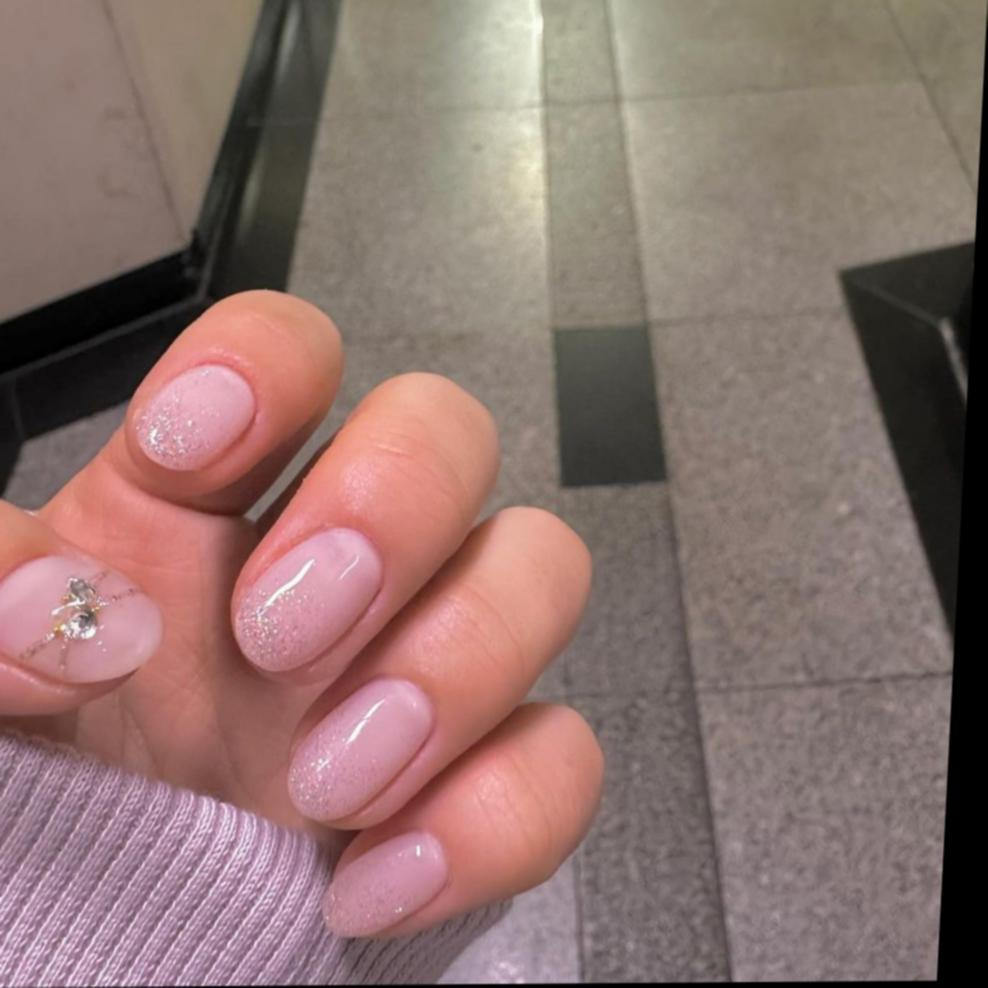nail: (228, 523, 389, 674), (285, 674, 440, 825), (0, 551, 169, 687), (130, 357, 261, 474), (320, 827, 454, 939)
